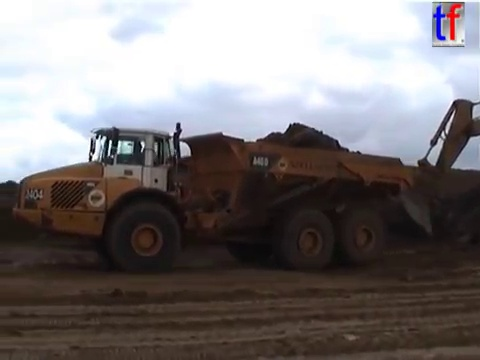excavator: (393, 97, 480, 237)
truck: (9, 120, 418, 274)
